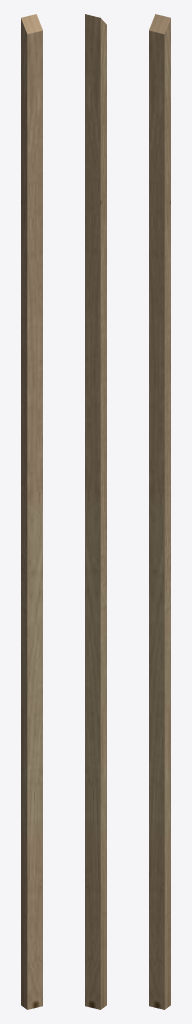
Rendered from Joglo_part_81.fbx.
The picture shows the model from 3 angles, left to right: view 1: azimuth 30°, elevation 25°; view 2: azimuth 150°, elevation 25°; view 3: azimuth 330°, elevation 25°; orthographic projection.
Visible parts, largest first — view 1: Mesh170_Wood___Pine_Grained_Horizontal_0.001; view 2: Mesh170_Wood___Pine_Grained_Horizontal_0.001; view 3: Mesh170_Wood___Pine_Grained_Horizontal_0.001.
Part boxes in pixels (x1=…): Mesh170_Wood___Pine_Grained_Horizontal_0.001: x1=21, y1=14, x2=42, y2=1009; Mesh170_Wood___Pine_Grained_Horizontal_0.001: x1=85, y1=14, x2=106, y2=1009; Mesh170_Wood___Pine_Grained_Horizontal_0.001: x1=149, y1=14, x2=170, y2=1009.
Bounding box in the file's own units: 1.38 × 82.68 × 0.9827.
